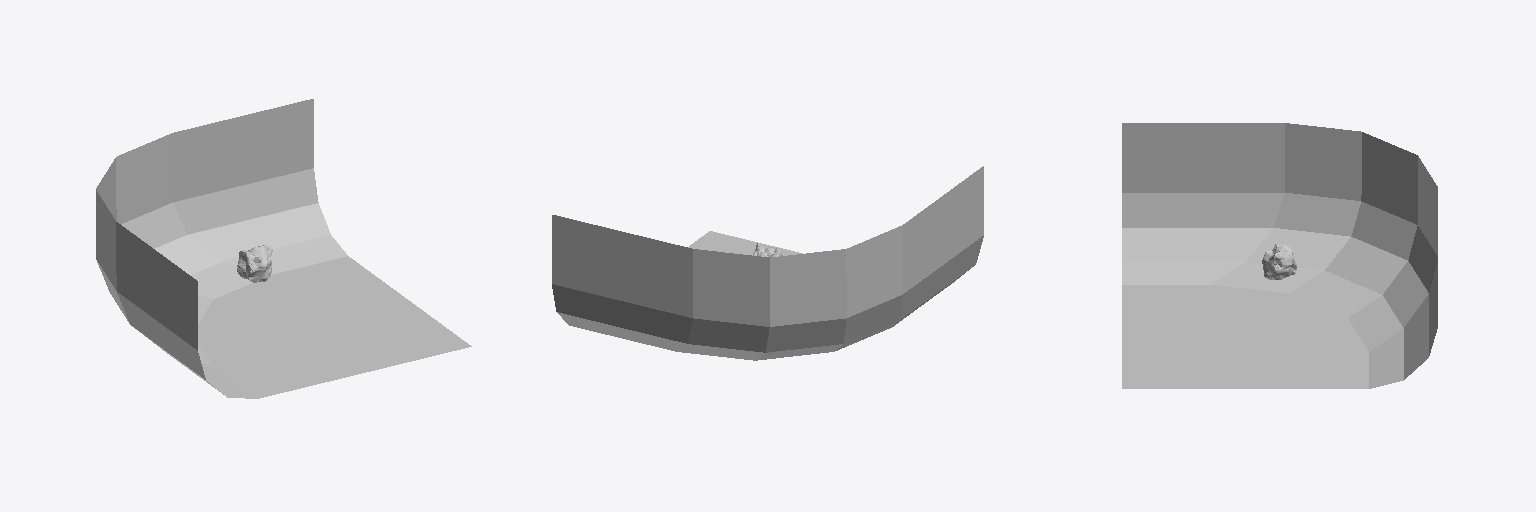
File: rock001.obj
3 renders of one model, left to right at view 1: azimuth 30°, elevation 25°; view 2: azimuth 150°, elevation 25°; view 3: azimuth 270°, elevation 25°, orthographic.
Parts seen in each view (by area): view 1: floor_Plane, Cube; view 2: floor_Plane; view 3: floor_Plane, Cube.
Part boxes in pixels (left/top/right/bottom): floor_Plane: left=96, top=99, right=471, bottom=398; Cube: left=237, top=245, right=272, bottom=282; floor_Plane: left=552, top=166, right=983, bottom=360; floor_Plane: left=1122, top=123, right=1437, bottom=388; Cube: left=1262, top=243, right=1296, bottom=279.
Bounding box in the file's own units: 3.29 × 1.52 × 3.29.